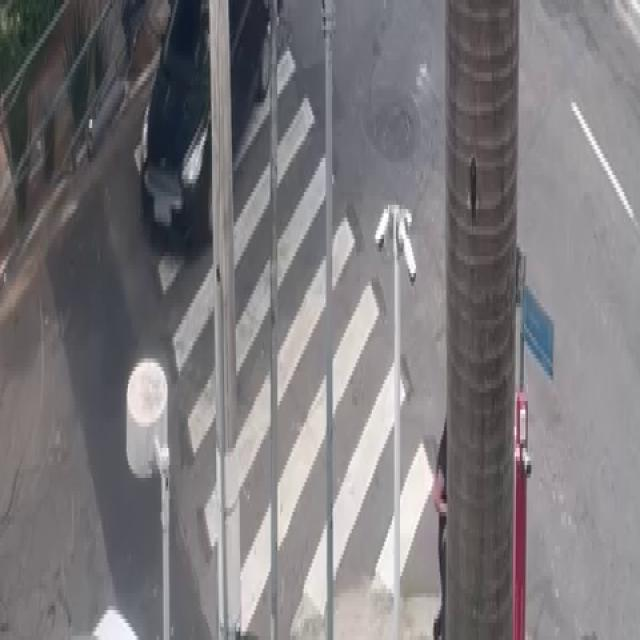car: (139, 0, 289, 256)
